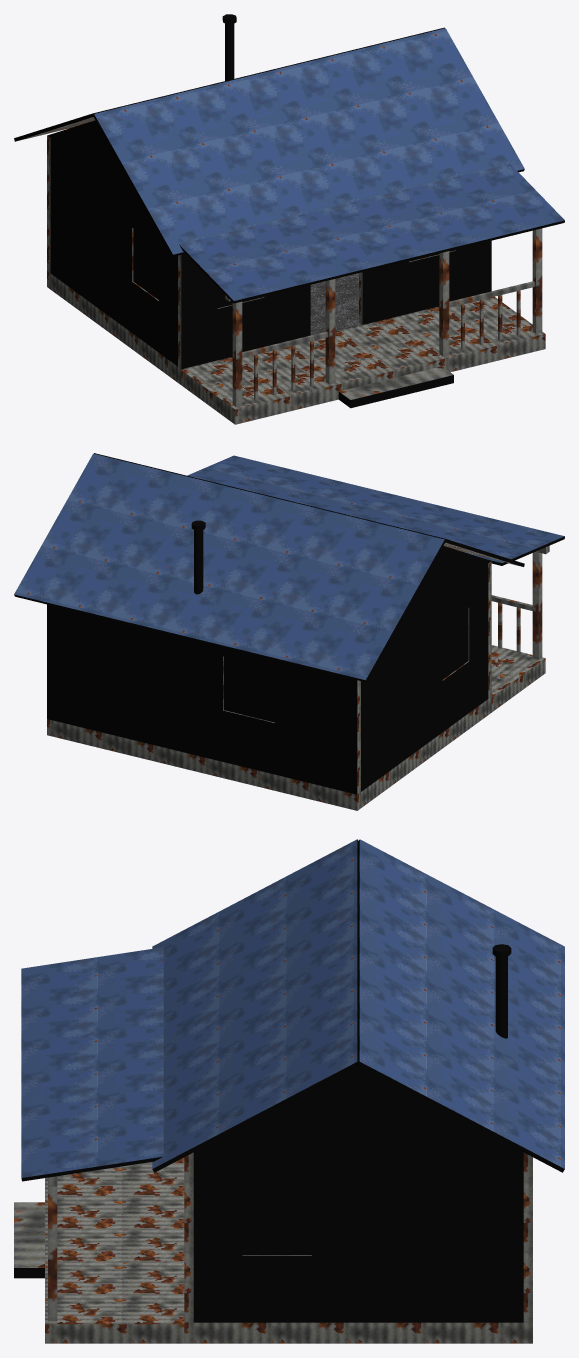
File: SM_ranger_station.fbx
3 renders of one model, top to bottom at view 1: azimuth 30°, elevation 25°; view 2: azimuth 150°, elevation 25°; view 3: azimuth 270°, elevation 25°, orthographic. The views are drawn at different scales.
Visible parts, largest first — view 1: ranger_station_roof_front, ranger_station, ranger_station_porch_roof, ranger_station_left, ranger_station_front_left, ranger_station_front_right, ranger_station_step, ranger_station_roof_back, ranger_station_back; view 2: ranger_station_roof_back, ranger_station_back, ranger_station_left, ranger_station, ranger_station_porch_roof, ranger_station_roof_front, ranger_station_front_left; view 3: ranger_station_right, ranger_station_roof_back, ranger_station_roof_front, ranger_station, ranger_station_porch_roof, ranger_station_step, ranger_station_back, ranger_station_front_right.
Boxes of the visible parts, bbox=[...] form: ranger_station_roof_front: bbox=[93, 28, 524, 256]; ranger_station: bbox=[47, 228, 545, 424]; ranger_station_porch_roof: bbox=[179, 163, 564, 303]; ranger_station_left: bbox=[47, 120, 177, 366]; ranger_station_front_left: bbox=[178, 253, 310, 368]; ranger_station_front_right: bbox=[359, 240, 491, 324]; ranger_station_step: bbox=[338, 366, 453, 408]; ranger_station_roof_back: bbox=[14, 14, 444, 141]; ranger_station_back: bbox=[47, 136, 50, 272]; ranger_station_roof_back: bbox=[14, 453, 445, 682]; ranger_station_back: bbox=[47, 604, 360, 794]; ranger_station_left: bbox=[361, 546, 491, 791]; ranger_station: bbox=[47, 550, 545, 810]; ranger_station_porch_roof: bbox=[187, 455, 564, 565]; ranger_station_roof_front: bbox=[94, 453, 524, 566]; ranger_station_front_left: bbox=[488, 561, 491, 698]; ranger_station_right: bbox=[193, 1066, 523, 1322]; ranger_station_roof_back: bbox=[357, 839, 564, 1172]; ranger_station_roof_front: bbox=[152, 839, 358, 1172]; ranger_station: bbox=[45, 1157, 532, 1343]; ranger_station_porch_roof: bbox=[21, 947, 163, 1186]; ranger_station_step: bbox=[14, 1202, 44, 1278]; ranger_station_back: bbox=[523, 1152, 532, 1322]; ranger_station_front_right: bbox=[184, 1152, 193, 1322].
Size of the model in its own units: 6.8 by 4.38 by 7.12.
